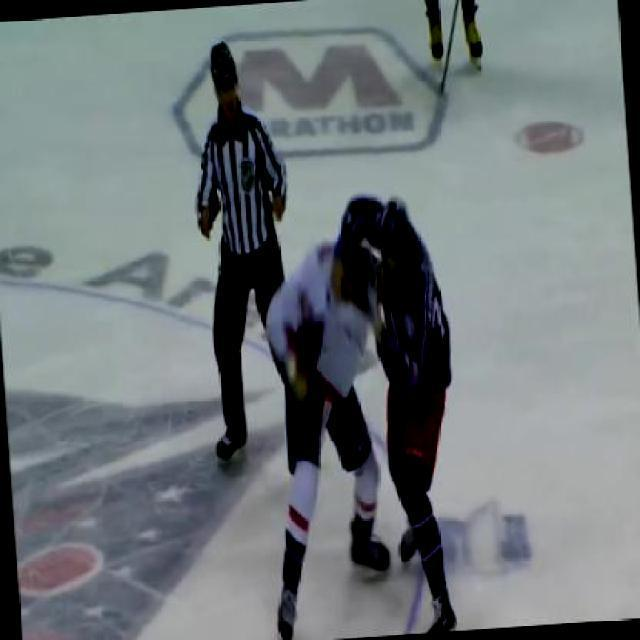fight: (249, 187, 477, 638)
